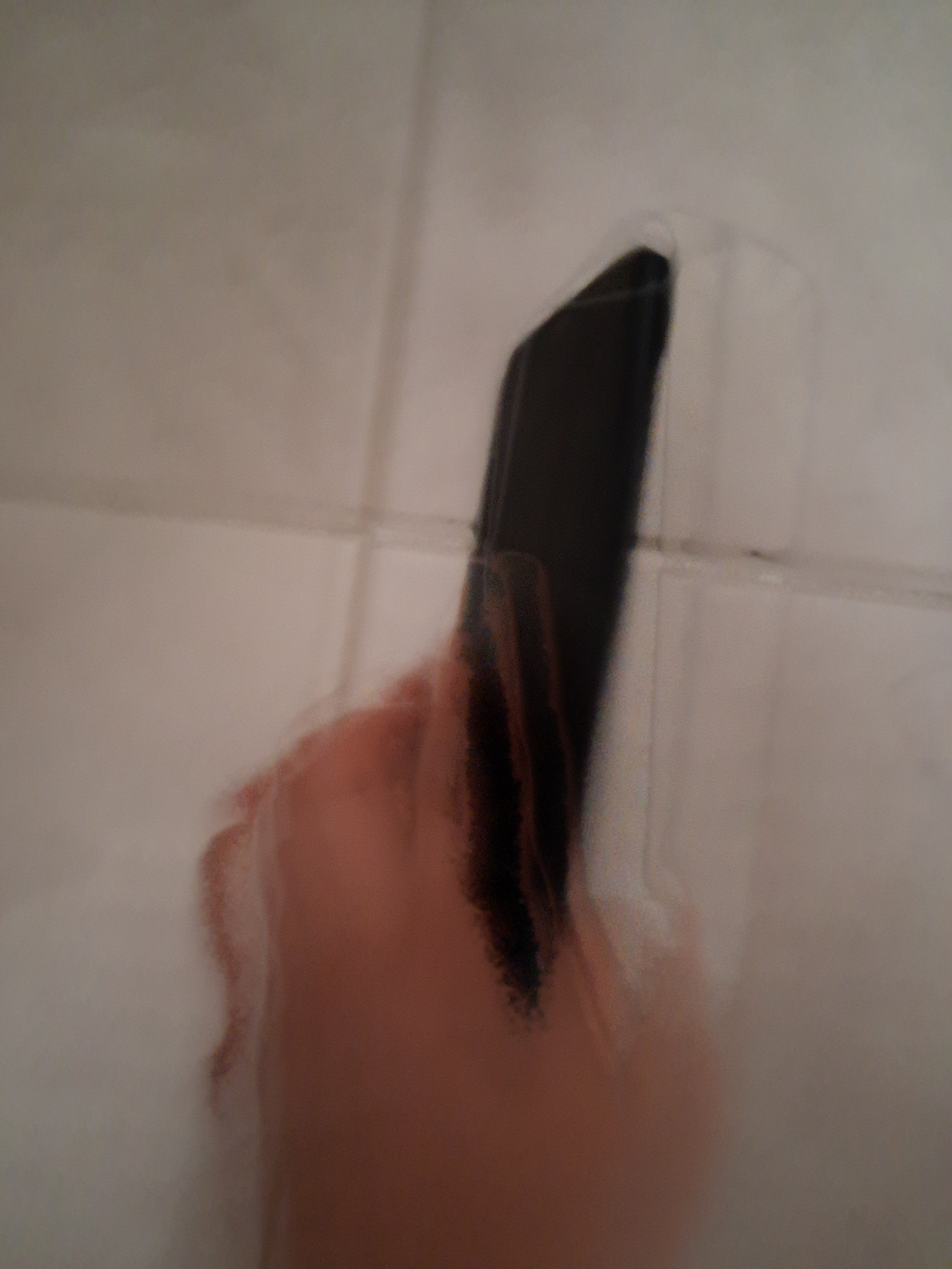phone: (474, 246, 674, 773)
